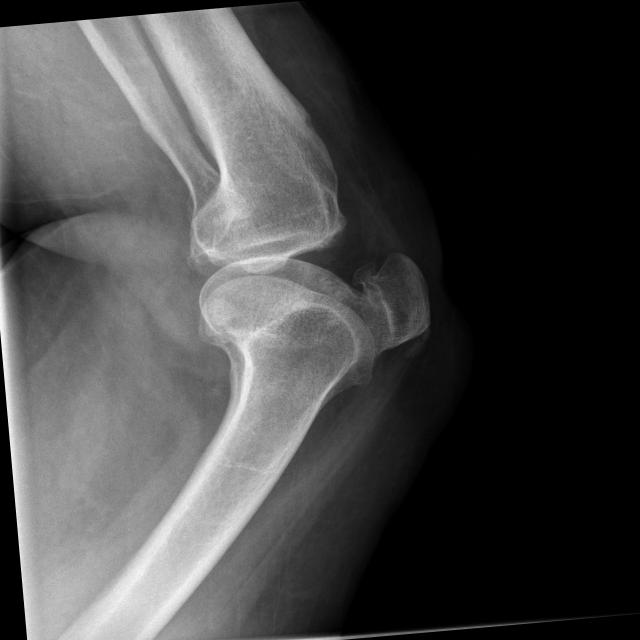Knee: (175, 164, 437, 380)
